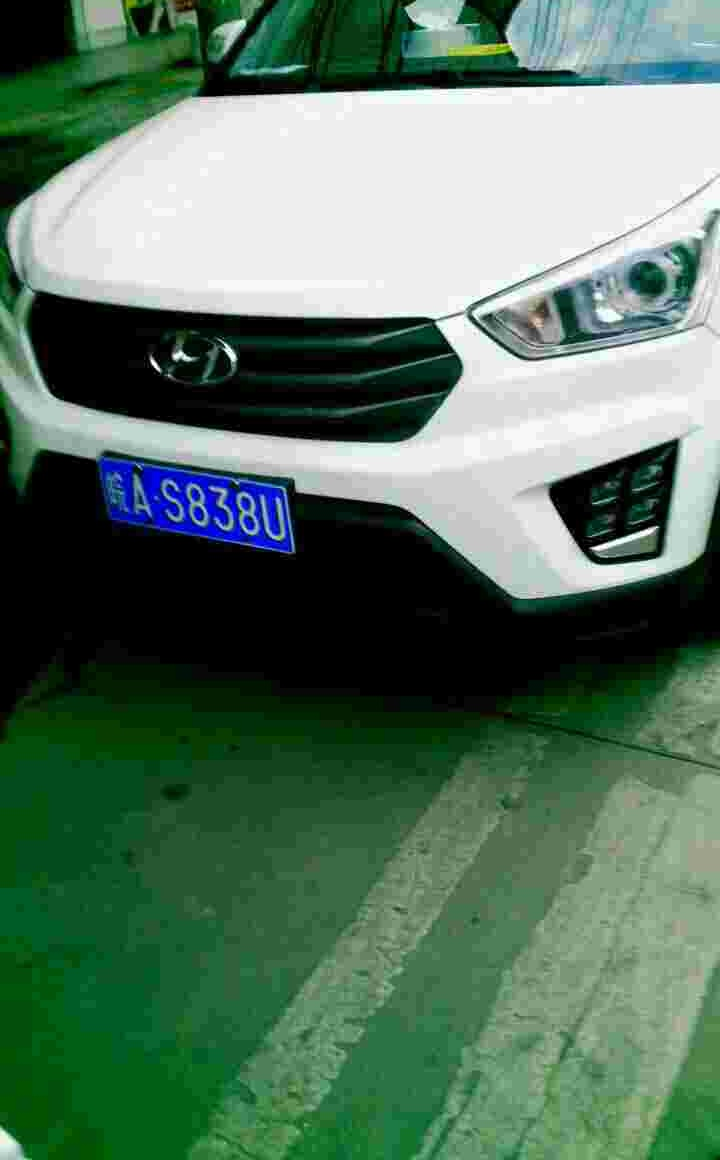plate: (92, 450, 105, 559)
